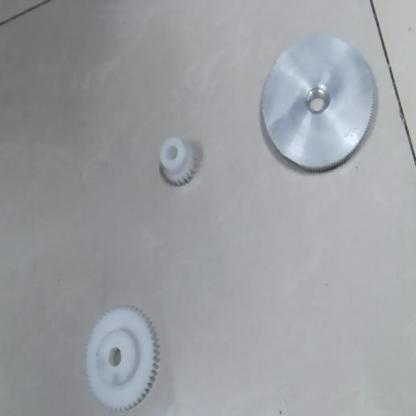FOD: (254, 28, 384, 180), (79, 303, 160, 415), (156, 128, 199, 190)
